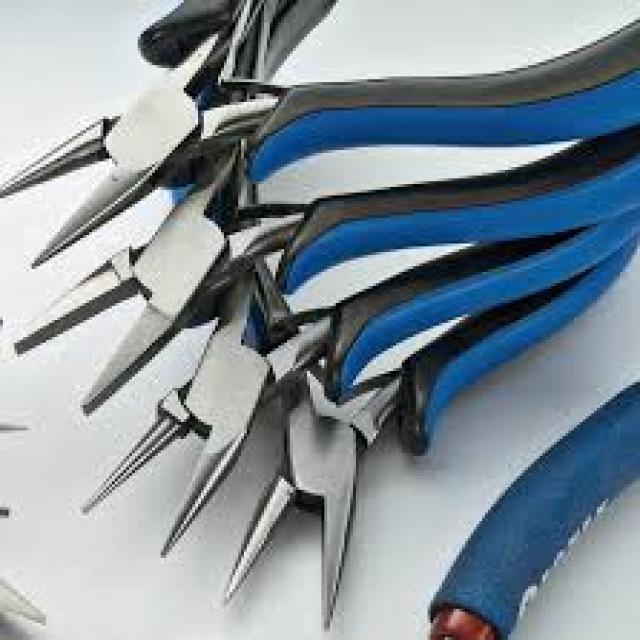pliers: (71, 192, 503, 564), (4, 84, 433, 432), (0, 0, 531, 266), (212, 245, 538, 630)
